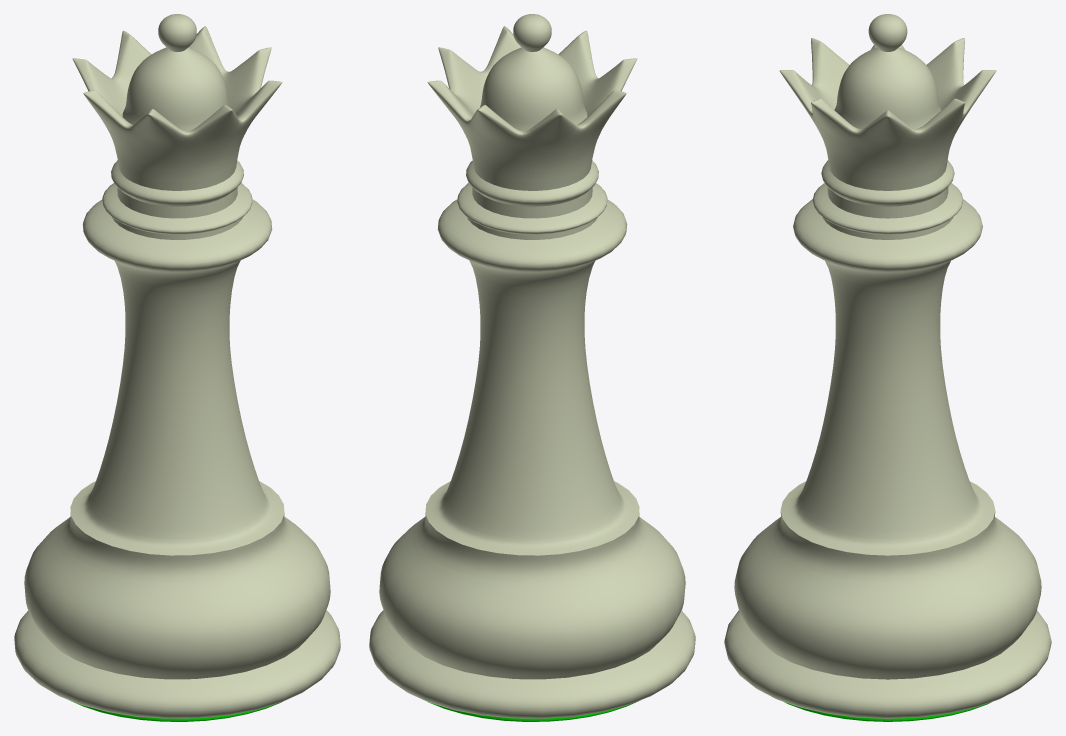
File: Queen.FBX
3 views of the same model, side by side, from view 1: azimuth 30°, elevation 25°; view 2: azimuth 150°, elevation 25°; view 3: azimuth 270°, elevation 25° (orthographic).
Parts seen in each view (by area): view 1: queen_copy19; view 2: queen_copy19; view 3: queen_copy19.
Part boxes in pixels (box(x1,y1,x2,y2)): queen_copy19: box(14, 14, 340, 721); queen_copy19: box(369, 14, 695, 721); queen_copy19: box(724, 14, 1051, 721).
Bounding box in the file's own units: 1.87 × 4.08 × 1.87.
